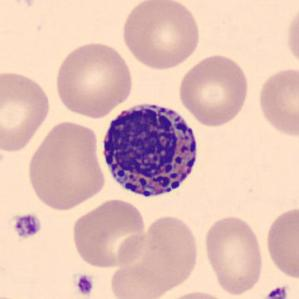Basophil: (96, 95, 204, 205)
Platelets: (11, 212, 43, 240), (74, 274, 95, 298), (263, 285, 289, 299)
RBC: (24, 117, 108, 212), (111, 212, 202, 296), (52, 38, 136, 119), (118, 0, 203, 71), (70, 196, 150, 270), (176, 51, 252, 128), (201, 212, 266, 298), (0, 67, 53, 154), (255, 64, 298, 139), (263, 204, 299, 281), (284, 2, 299, 72), (157, 288, 234, 299)
